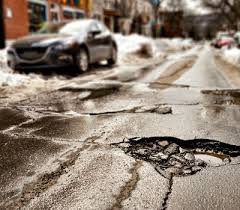pothole: (111, 135, 240, 180), (16, 162, 76, 197), (194, 82, 240, 113), (86, 104, 175, 116)
